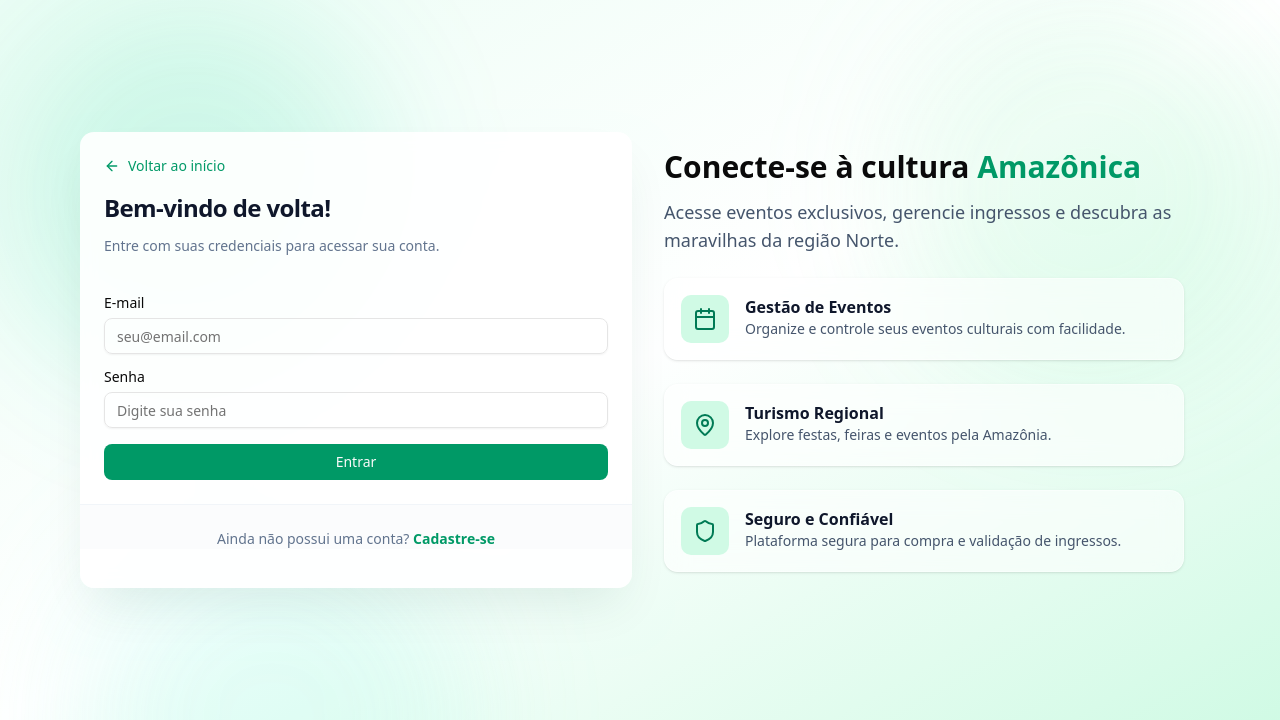
Login Page › exibe estado de loading ao submeter formulário
Type "gestor@teste.com" into the field labelled "E-mail" at (356, 336), box [104,318,608,354]
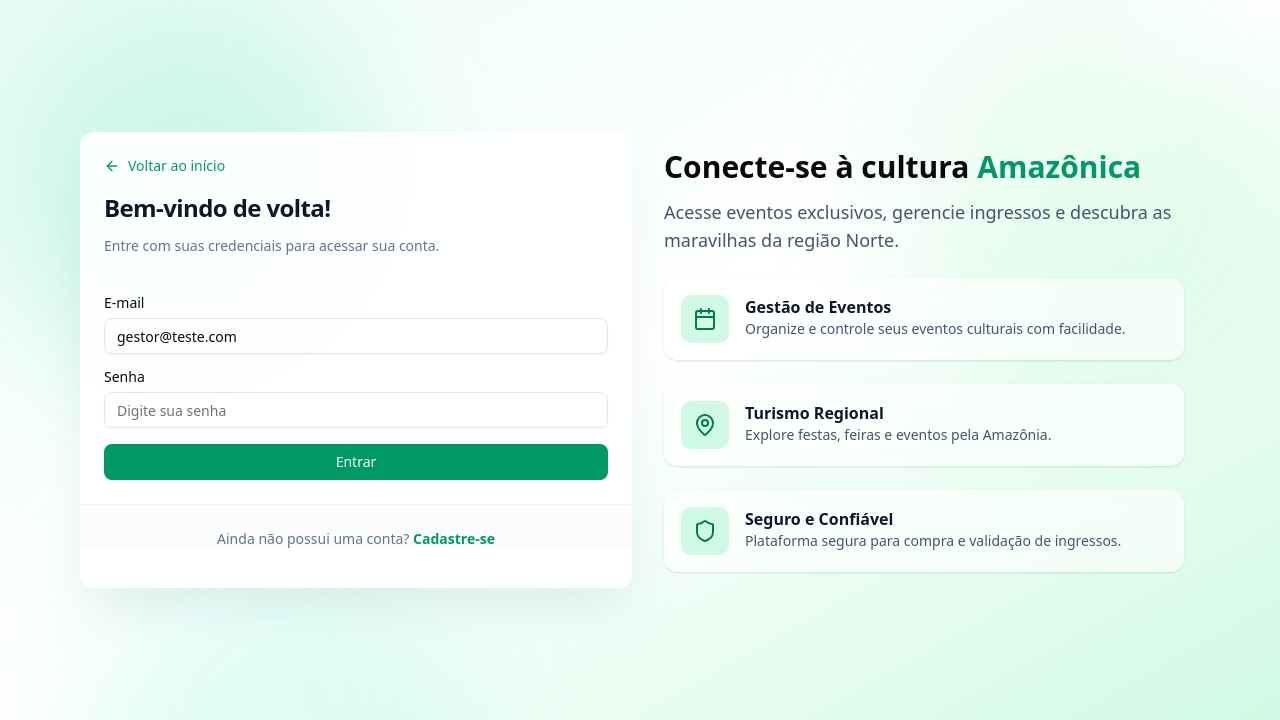
Type "123456" into the password field labelled "Senha" at (356, 410), box [104,392,608,428]
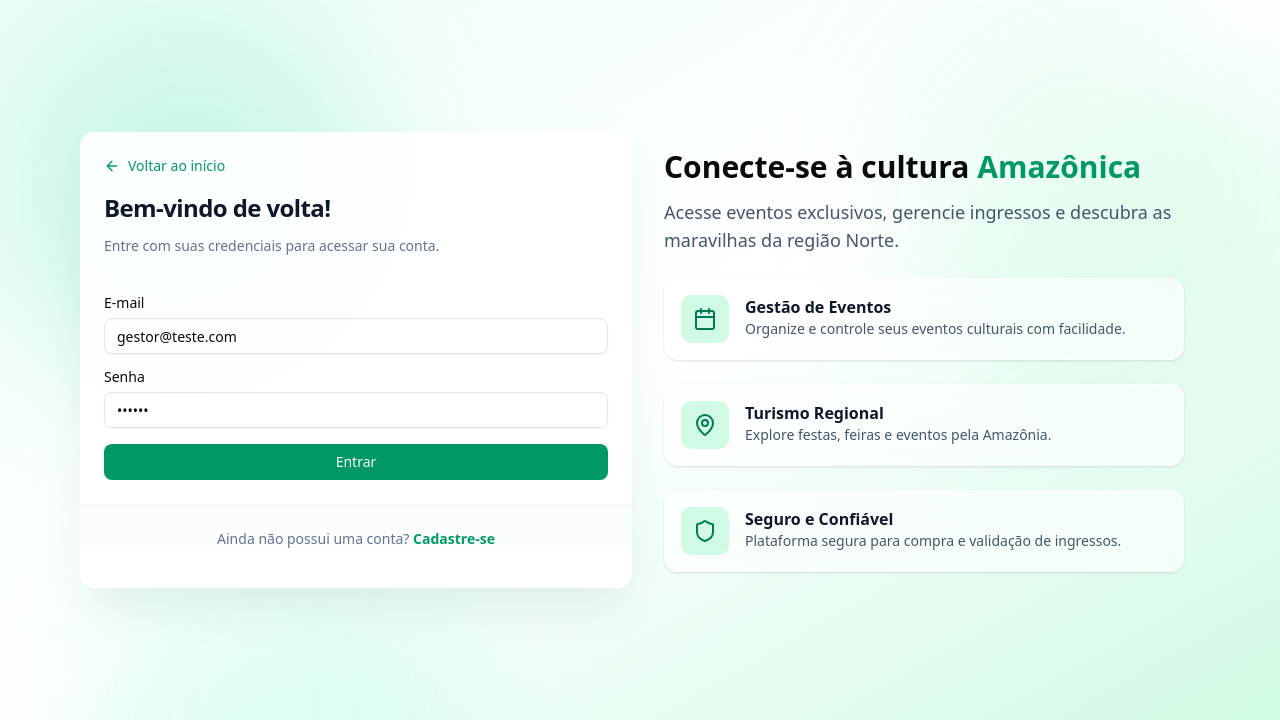
Click the button "Entrar" at (356, 462), box [104,444,608,480]
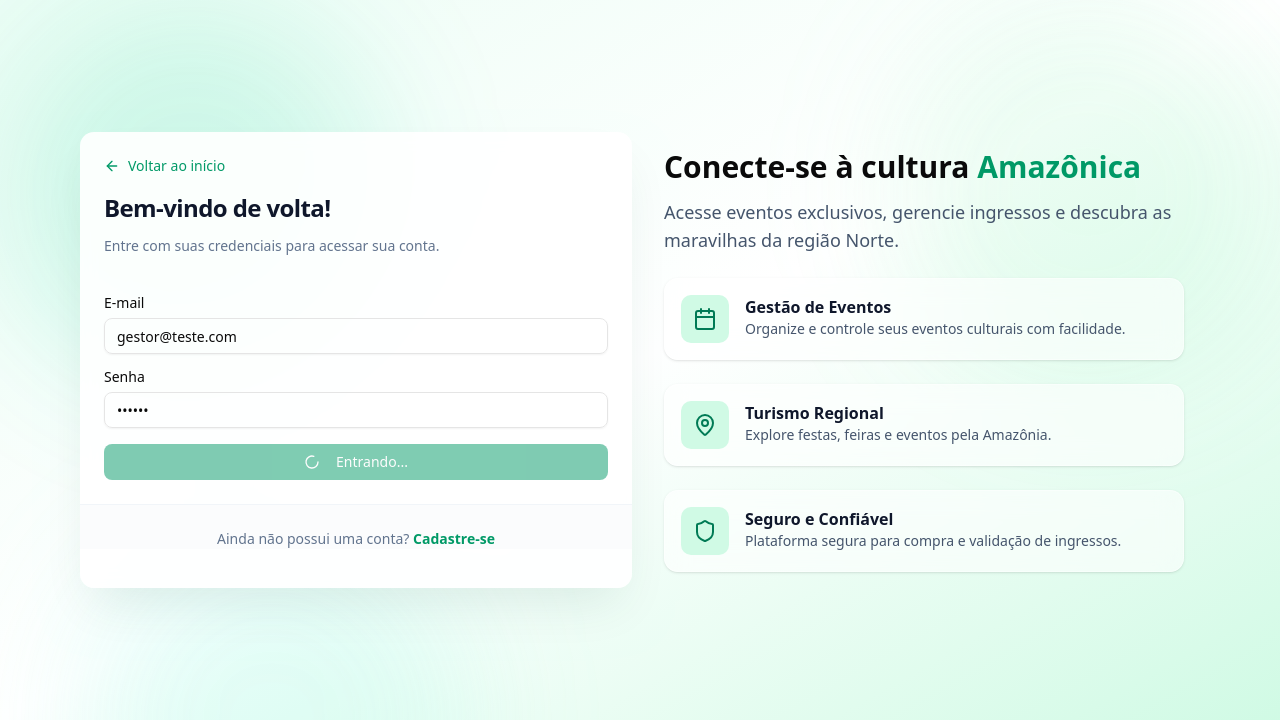
Check: the button "Entrando..." is shown, box [104,444,608,480]
